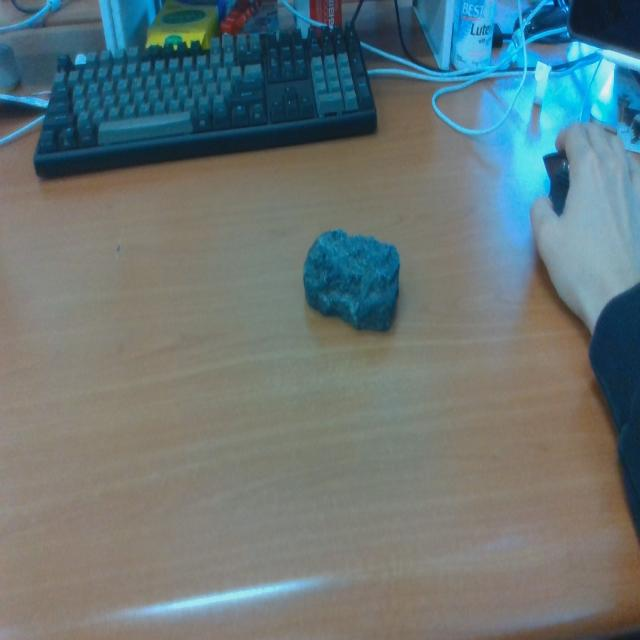stone: (302, 226, 400, 334)
